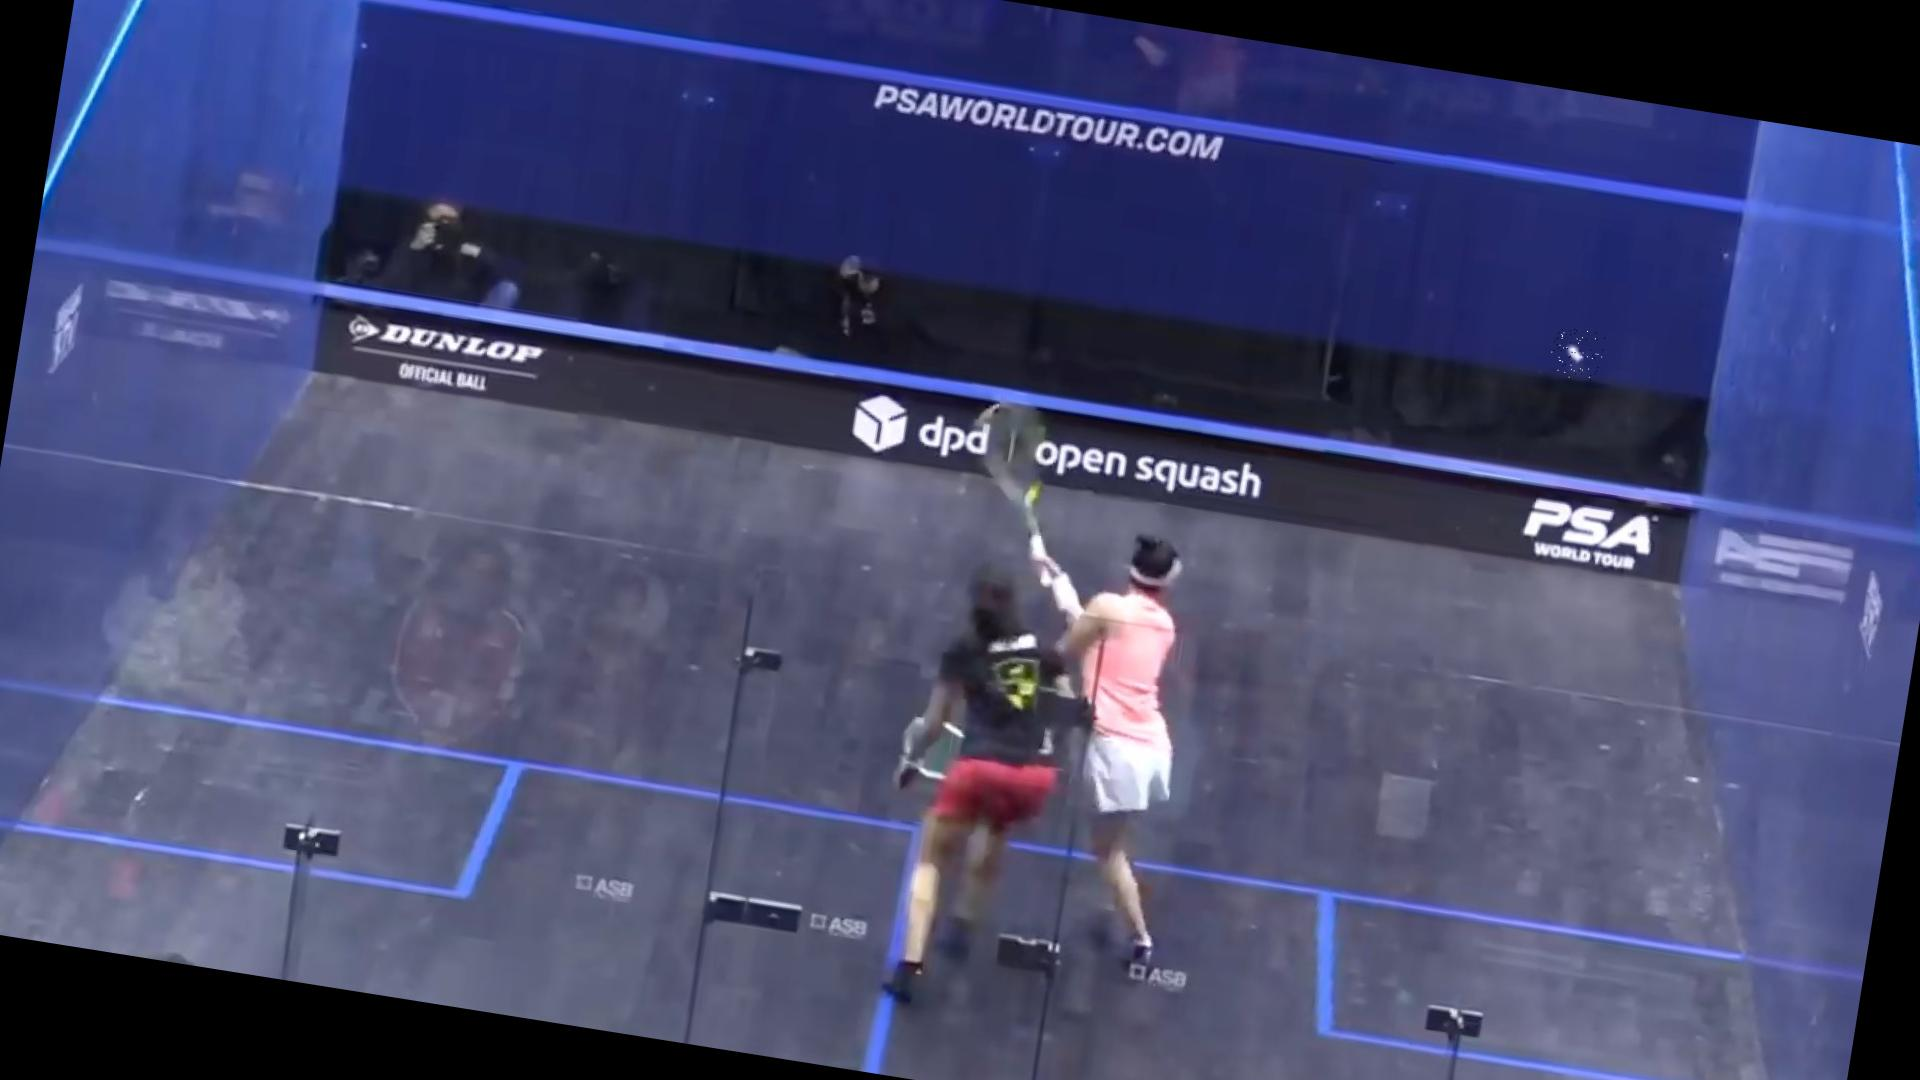Squash-Ball: (1544, 325, 1605, 384)
